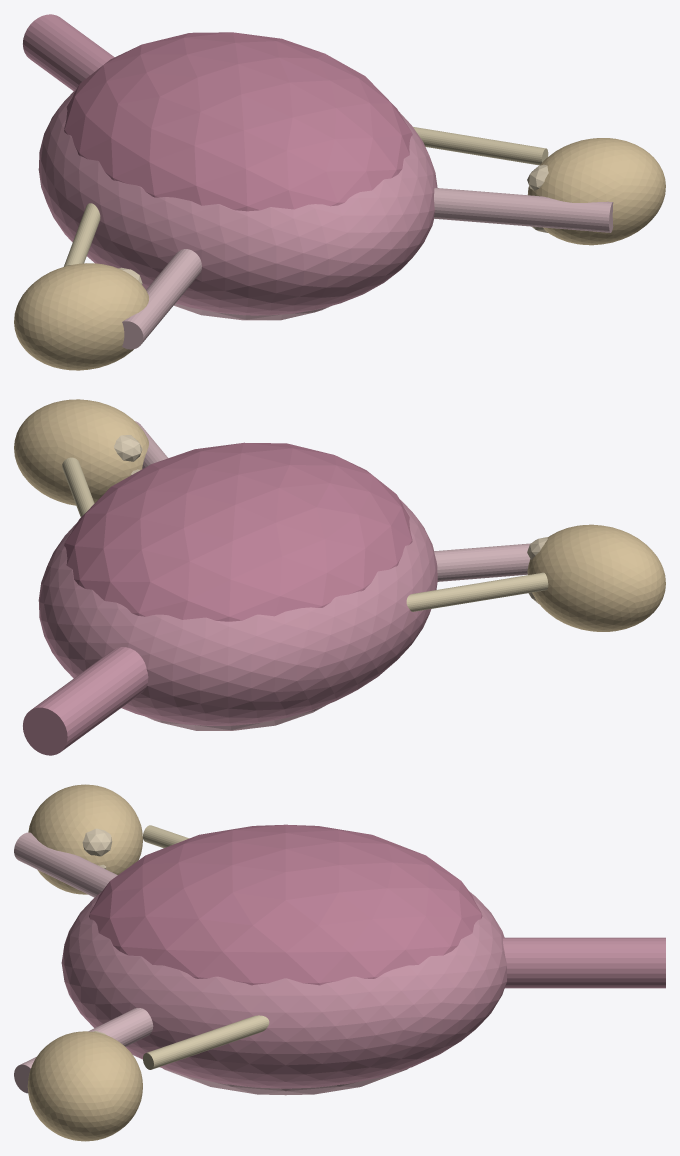
Rendered from female-high.glb.
3 views of the same model, one above another, from view 1: azimuth 30°, elevation 25°; view 2: azimuth 150°, elevation 25°; view 3: azimuth 270°, elevation 25° (orthographic).
Parts seen in each view (by area): view 1: myometrium_proxy, uterus, left_ovary, right_ovary, right_fallopian_tube, cervix_vaginal_canal_proxy, left_fallopian_tube, right_round_ligament_proxy, left_round_ligament_proxy, endometrium_proxy; view 2: myometrium_proxy, uterus, left_ovary, right_ovary, cervix_vaginal_canal_proxy, left_fallopian_tube, left_round_ligament_proxy, right_round_ligament_proxy, endometrium_proxy, right_fimbria_proxy_3; view 3: myometrium_proxy, uterus, right_ovary, cervix_vaginal_canal_proxy, left_ovary, left_fallopian_tube, right_round_ligament_proxy, right_fallopian_tube, endometrium_proxy, left_fimbria_proxy_3, left_round_ligament_proxy.
Part boxes in pixels (box(x1,y1,x2,y2)): myometrium_proxy: box(64, 32, 412, 211); uterus: box(38, 89, 437, 315); left_ovary: box(14, 263, 148, 370); right_ovary: box(527, 138, 665, 245); right_fallopian_tube: box(434, 188, 613, 232); cervix_vaginal_canal_proxy: box(23, 14, 114, 91); left_fallopian_tube: box(122, 249, 201, 349); right_round_ligament_proxy: box(413, 127, 548, 165); left_round_ligament_proxy: box(64, 203, 100, 266); endometrium_proxy: box(174, 303, 330, 320); myometrium_proxy: box(64, 442, 412, 621); uterus: box(38, 499, 437, 725); left_ovary: box(527, 524, 665, 631); right_ovary: box(14, 399, 148, 505); cervix_vaginal_canal_proxy: box(23, 647, 148, 755); left_fallopian_tube: box(434, 543, 530, 581); left_round_ligament_proxy: box(406, 572, 548, 611); right_round_ligament_proxy: box(62, 457, 94, 517); endometrium_proxy: box(145, 704, 327, 730); right_fimbria_proxy_3: box(114, 435, 142, 461); myometrium_proxy: box(89, 824, 482, 985); uterus: box(61, 891, 506, 1088); right_ovary: box(27, 1031, 142, 1141); cervix_vaginal_canal_proxy: box(503, 937, 665, 988); left_ovary: box(28, 784, 142, 894); left_fallopian_tube: box(14, 832, 117, 897); right_round_ligament_proxy: box(143, 1015, 269, 1069); right_fallopian_tube: box(14, 1008, 153, 1093); endometrium_proxy: box(163, 1068, 408, 1095); left_fimbria_proxy_3: box(82, 828, 112, 856); left_round_ligament_proxy: box(143, 825, 188, 848).
Size of the model in its own units: 2.14 by 0.73 by 1.92.
